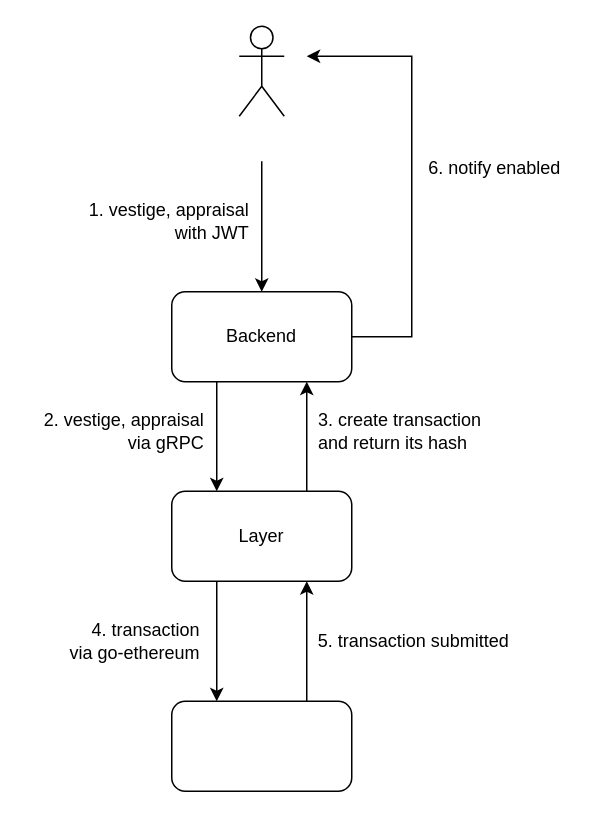
Image size: 602x818. Some labels were removed from this diagram. Each missing label, with the box of its shape:
ERC721 on Blockchain: (170, 700, 352, 791)
User: (238, 25, 284, 116)
